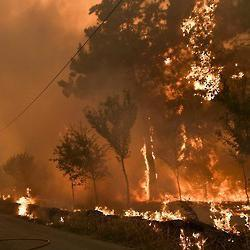fire: (181, 182, 247, 202), (194, 53, 219, 96), (215, 214, 232, 232), (18, 192, 29, 216), (155, 213, 179, 222)
